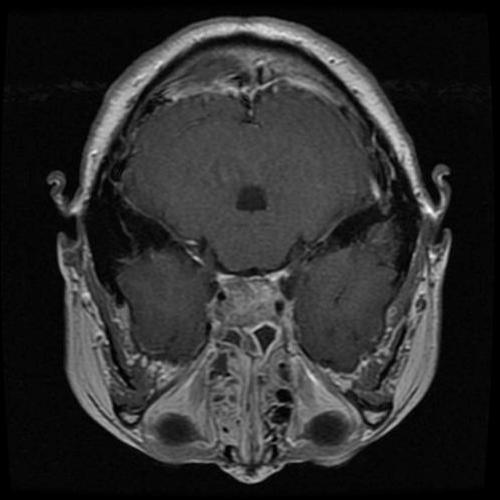Tumour-Pituitary: (207, 264, 303, 338)
